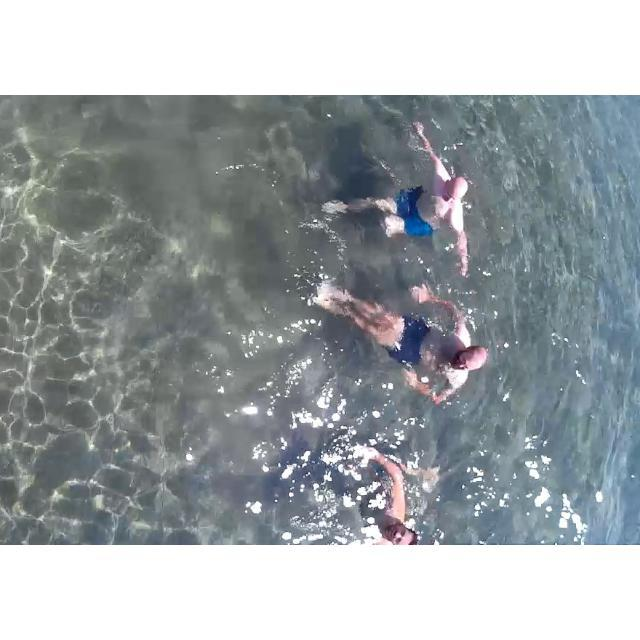human: (308, 263, 480, 417), (356, 133, 474, 265)
